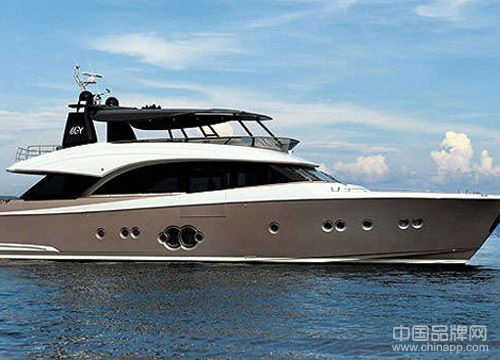yacht: (1, 64, 496, 273)
